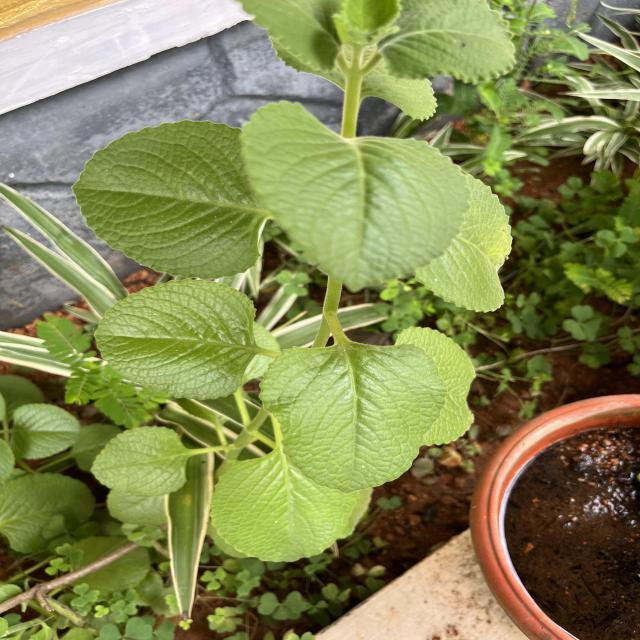Plectranthus barbatus: (237, 98, 472, 294), (70, 118, 263, 281), (257, 342, 449, 495), (92, 278, 259, 401), (208, 452, 359, 564), (412, 172, 514, 314), (394, 325, 477, 447), (89, 424, 189, 498), (8, 402, 82, 460)
